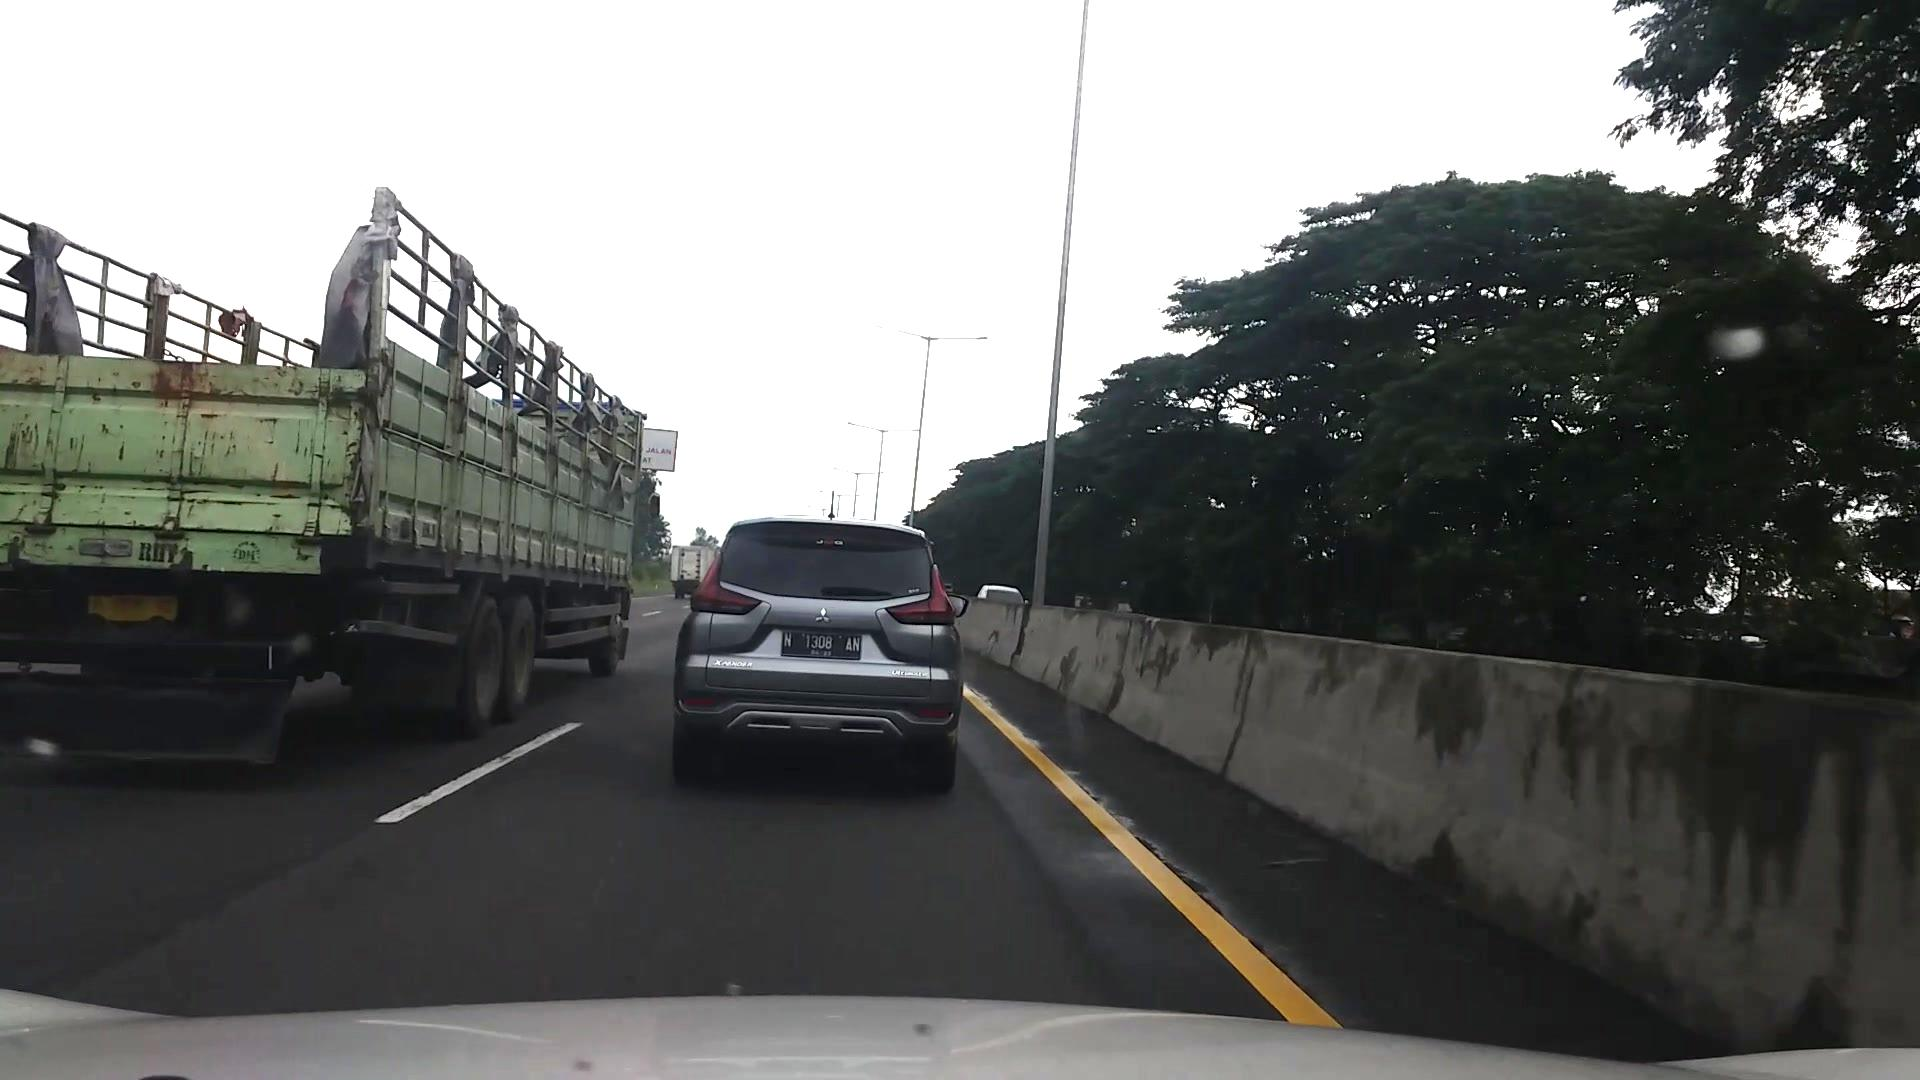plate_positive: (781, 630, 861, 659)
